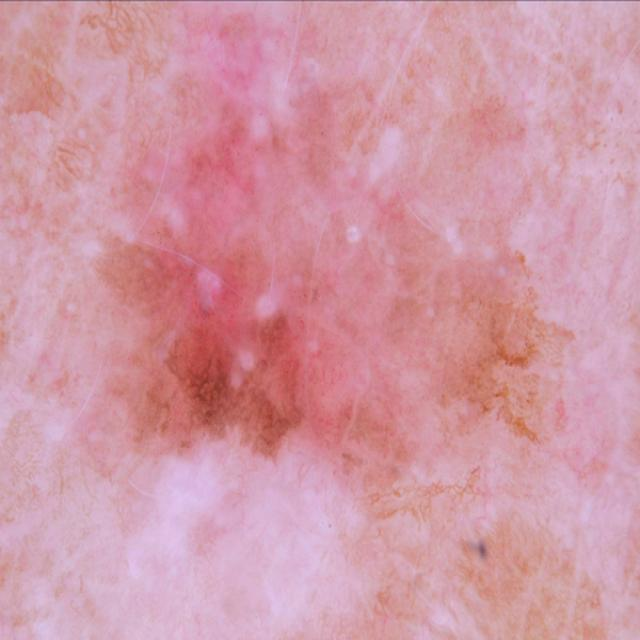Skin-Cancer Squamous cell carcinoma: (12, 8, 614, 640)
